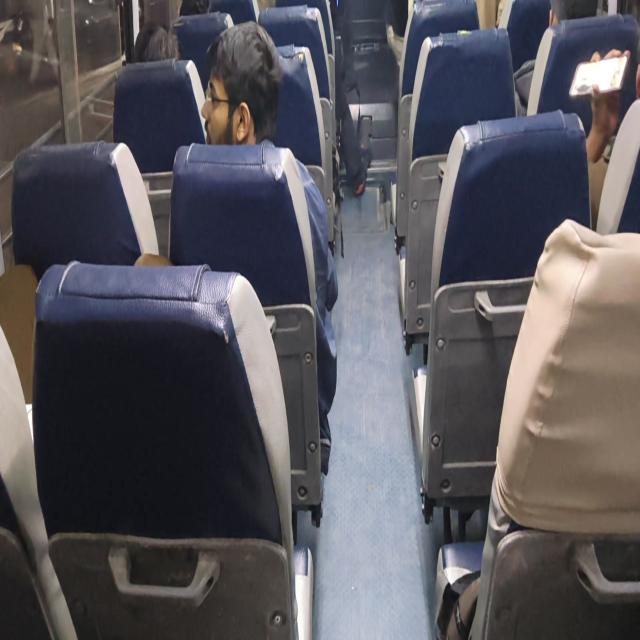person: (134, 18, 339, 490), (133, 22, 181, 62)
